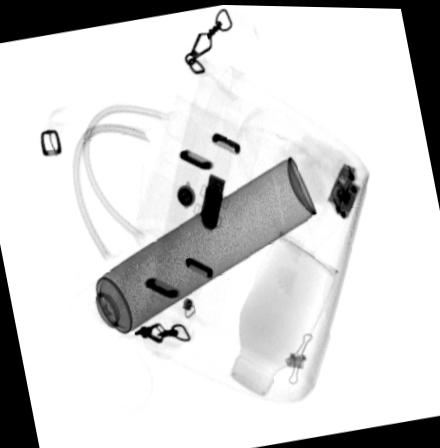Sprayer: (68, 154, 319, 351)
